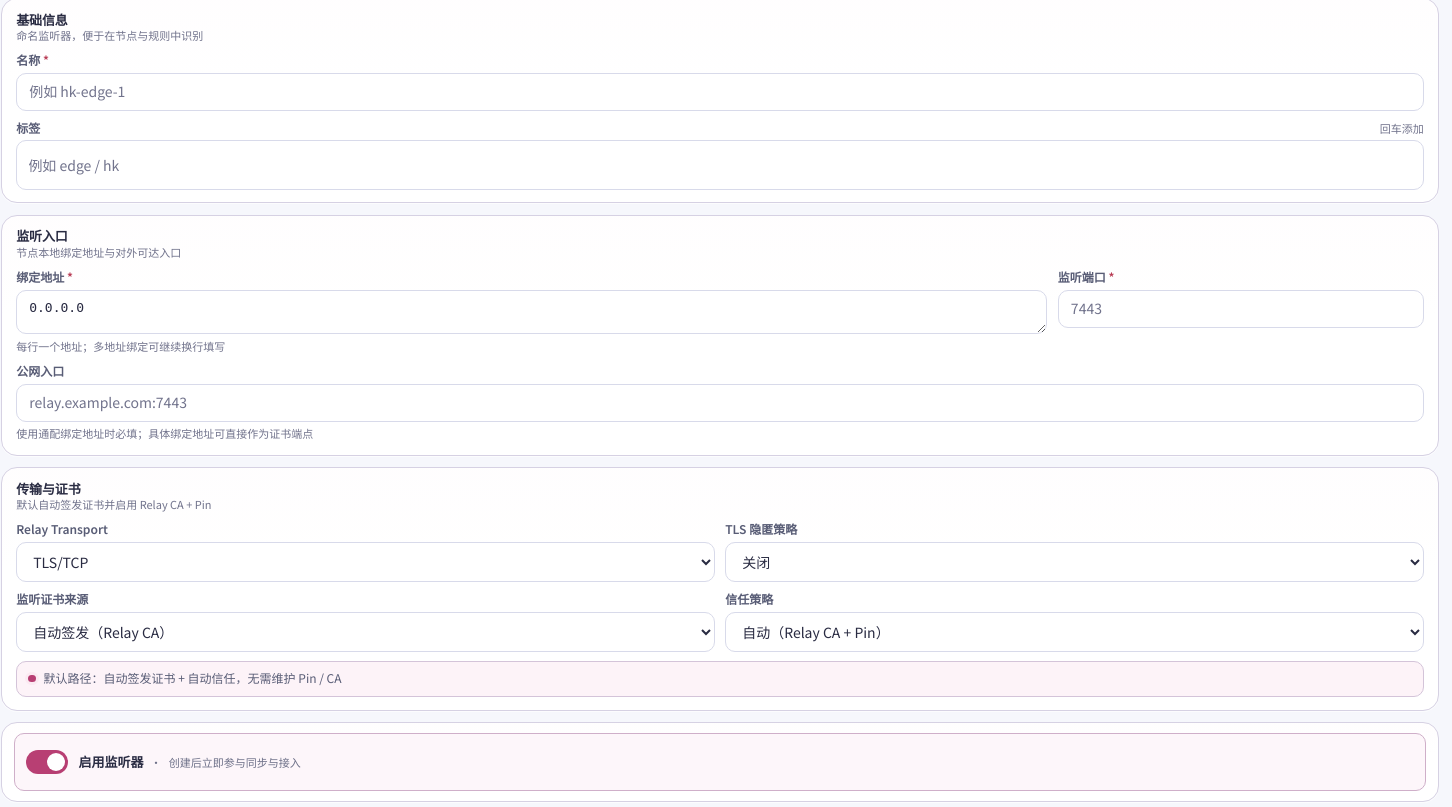
Test: RelayListenerForm transport behavior › expands advanced settings when switching trust mode to custom
The image size is (1452, 807).
Select "高级自定义" in the dropdown below "信任策略" at (1074, 632), box x1=725 y1=612 x2=1424 y2=652
(page scrolled)
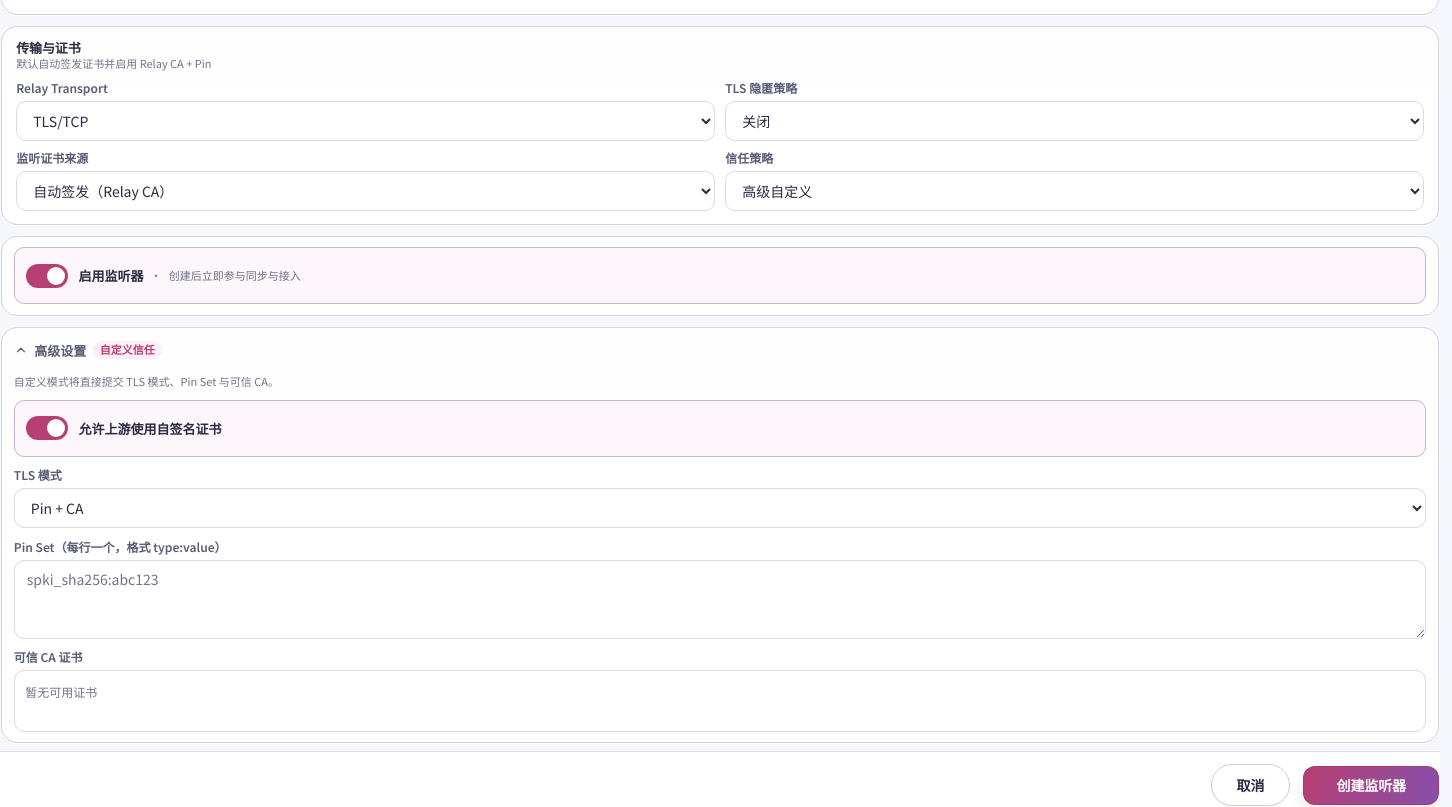
Check: the element with class "advanced-panel" is shown, box x1=14 y1=368 x2=1426 y2=732
Check: the text "自定义信任" is shown, box x1=93 y1=342 x2=162 y2=359
